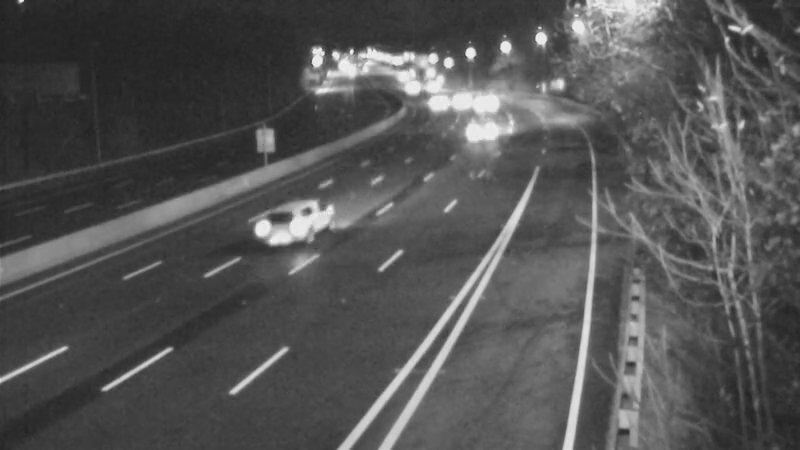vehicle: (253, 185, 333, 265), (385, 63, 435, 113), (438, 74, 488, 124), (415, 81, 465, 131), (462, 77, 512, 127), (459, 101, 509, 151)
